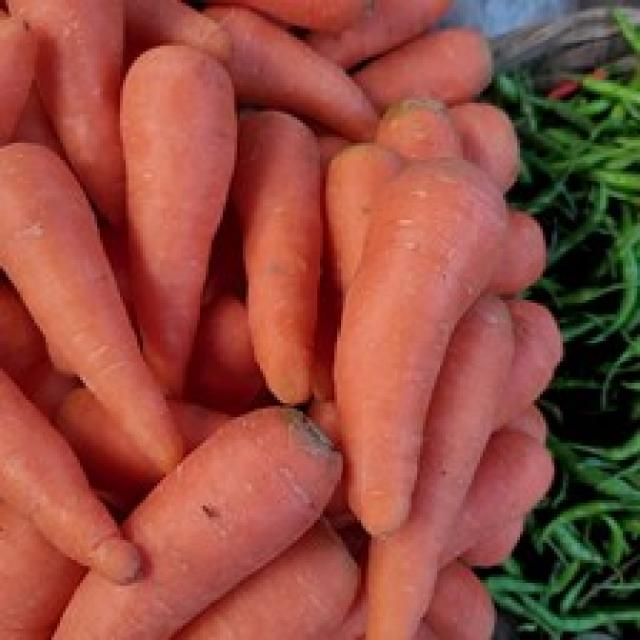Fresh_Carrot: (314, 152, 508, 531), (46, 410, 353, 640), (104, 47, 237, 395)
